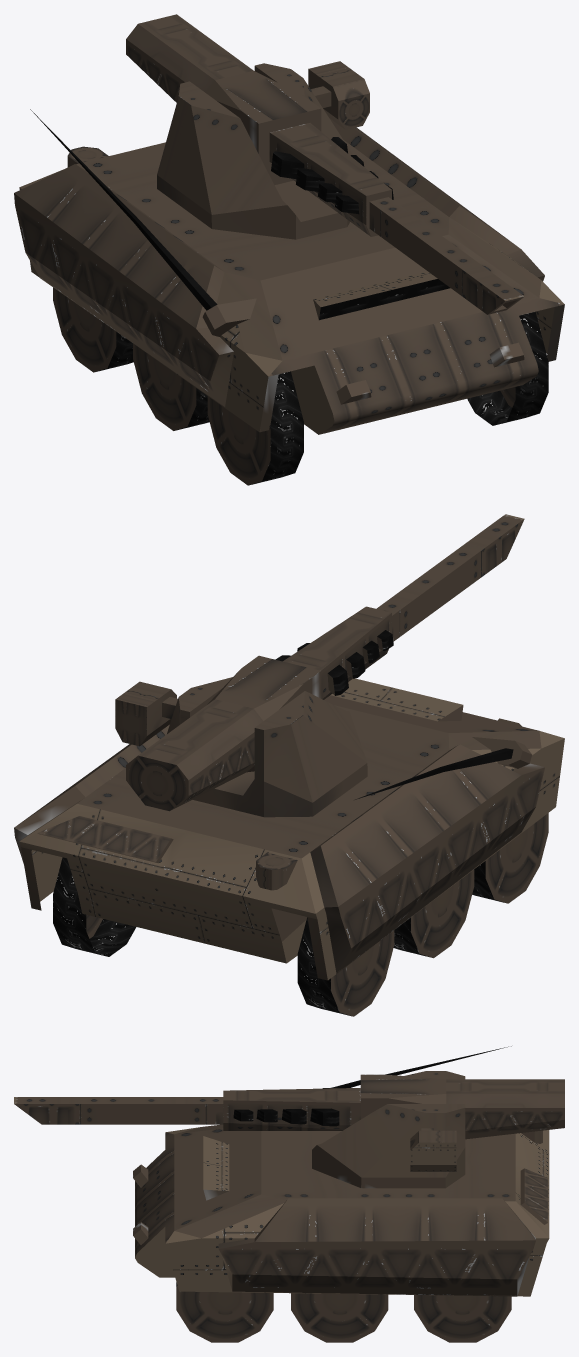
File: Car_Lvl3.fbx
The picture shows the model from 3 angles, top to bottom: view 1: azimuth 30°, elevation 25°; view 2: azimuth 150°, elevation 25°; view 3: azimuth 270°, elevation 25°; orthographic projection. The views are drawn at different scales.
Visible parts, largest first — view 1: Car_Lvl3; view 2: Car_Lvl3; view 3: Car_Lvl3.
Part boxes in pixels (x1,y1,x2,y2): Car_Lvl3: (14, 14, 564, 485); Car_Lvl3: (14, 514, 564, 1016); Car_Lvl3: (14, 1046, 564, 1342).
Bounding box in the file's own units: 4.54 × 1.85 × 2.39.
